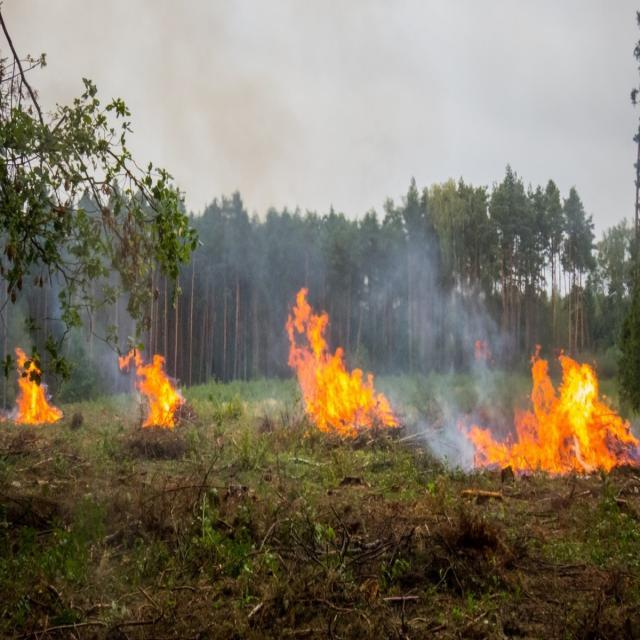Fire: (456, 339, 640, 475), (284, 283, 400, 440), (118, 344, 185, 428), (14, 344, 64, 426)
Smoke: (173, 192, 530, 477), (28, 198, 140, 418)
